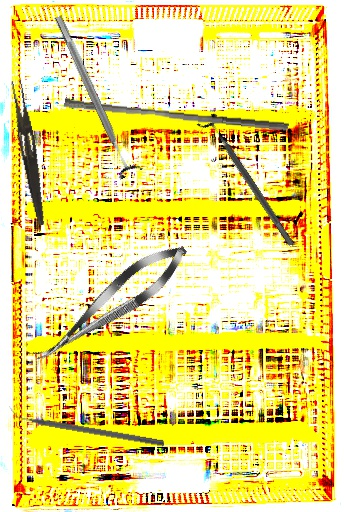Chopper: (6, 404, 167, 447)
Dressing Forceps: (5, 78, 53, 227)
Fixation Ring: (45, 10, 145, 181), (196, 111, 301, 252)
Micro Scissor: (26, 233, 196, 375)
Pusher: (63, 98, 290, 131)
